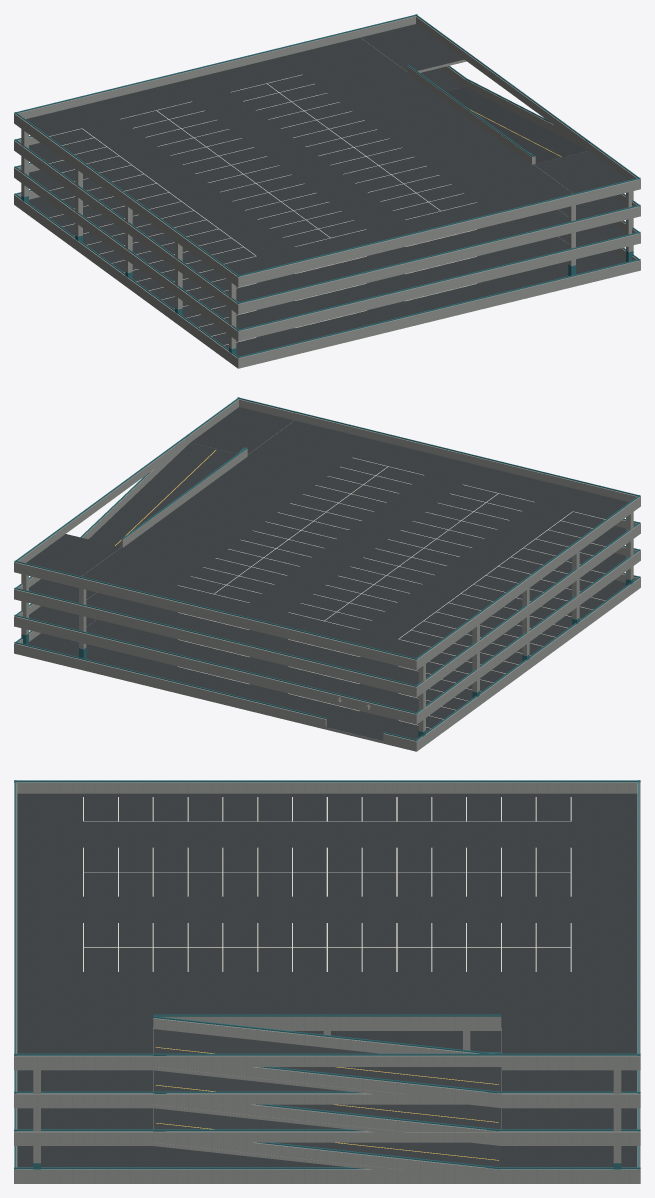
File: large_04.glb
The picture shows the model from 3 angles, top to bottom: view 1: azimuth 30°, elevation 25°; view 2: azimuth 150°, elevation 25°; view 3: azimuth 270°, elevation 25°; orthographic projection. The views are drawn at different scales.
Parts seen in each view (by area): view 1: large_04_Asphalt, large_04_Concrete, large_04_Teal, large_04_Paint; view 2: large_04_Asphalt, large_04_Concrete, large_04_Teal, large_04_Paint; view 3: large_04_Asphalt, large_04_Concrete, large_04_Teal, large_04_Paint, large_04_Yellow.
Part boxes in pixels (x1,y1,x2,y2): large_04_Asphalt: (26,24,628,356); large_04_Concrete: (14,16,640,368); large_04_Teal: (14,14,640,358); large_04_Paint: (49,74,476,345); large_04_Asphalt: (26,407,628,740); large_04_Concrete: (14,399,640,751); large_04_Teal: (14,397,640,741); large_04_Paint: (178,457,605,728); large_04_Asphalt: (17,793,637,1167); large_04_Concrete: (14,782,640,1183); large_04_Teal: (14,780,640,1169); large_04_Paint: (83,797,571,971); large_04_Yellow: (155,1047,498,1160).
Size of the model in its own units: 56 by 12.28 by 54.02.
Materials: 6 (2 with a texture image).
